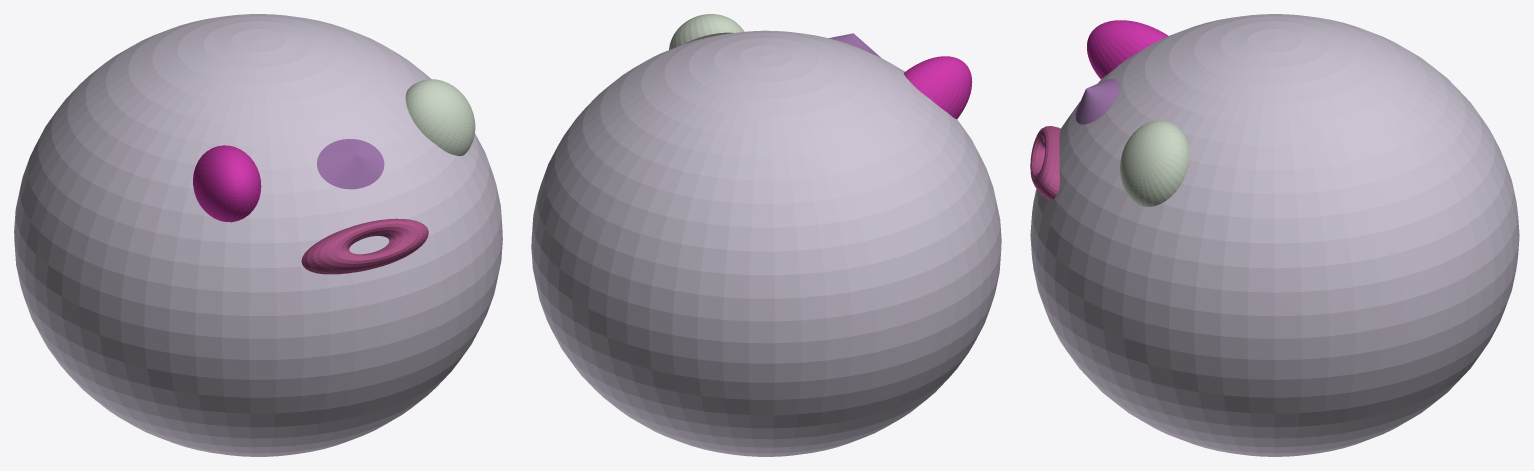
The model's file is pimbo.glb.
The picture shows the model from 3 angles, left to right: view 1: azimuth 30°, elevation 25°; view 2: azimuth 150°, elevation 25°; view 3: azimuth 270°, elevation 25°; orthographic projection. The views are drawn at different scales.
Visible parts, largest first — view 1: Mesh_Mesh_head_geo.001_lambert2SG.001; view 2: Mesh_Mesh_head_geo.001_lambert2SG.001; view 3: Mesh_Mesh_head_geo.001_lambert2SG.001.
Part boxes in pixels (x1,y1,x2,y2): Mesh_Mesh_head_geo.001_lambert2SG.001: (14, 14, 502, 456); Mesh_Mesh_head_geo.001_lambert2SG.001: (531, 14, 1001, 456); Mesh_Mesh_head_geo.001_lambert2SG.001: (1030, 14, 1519, 456).
Bounding box in the file's own units: 0.026 × 0.023 × 0.026.
